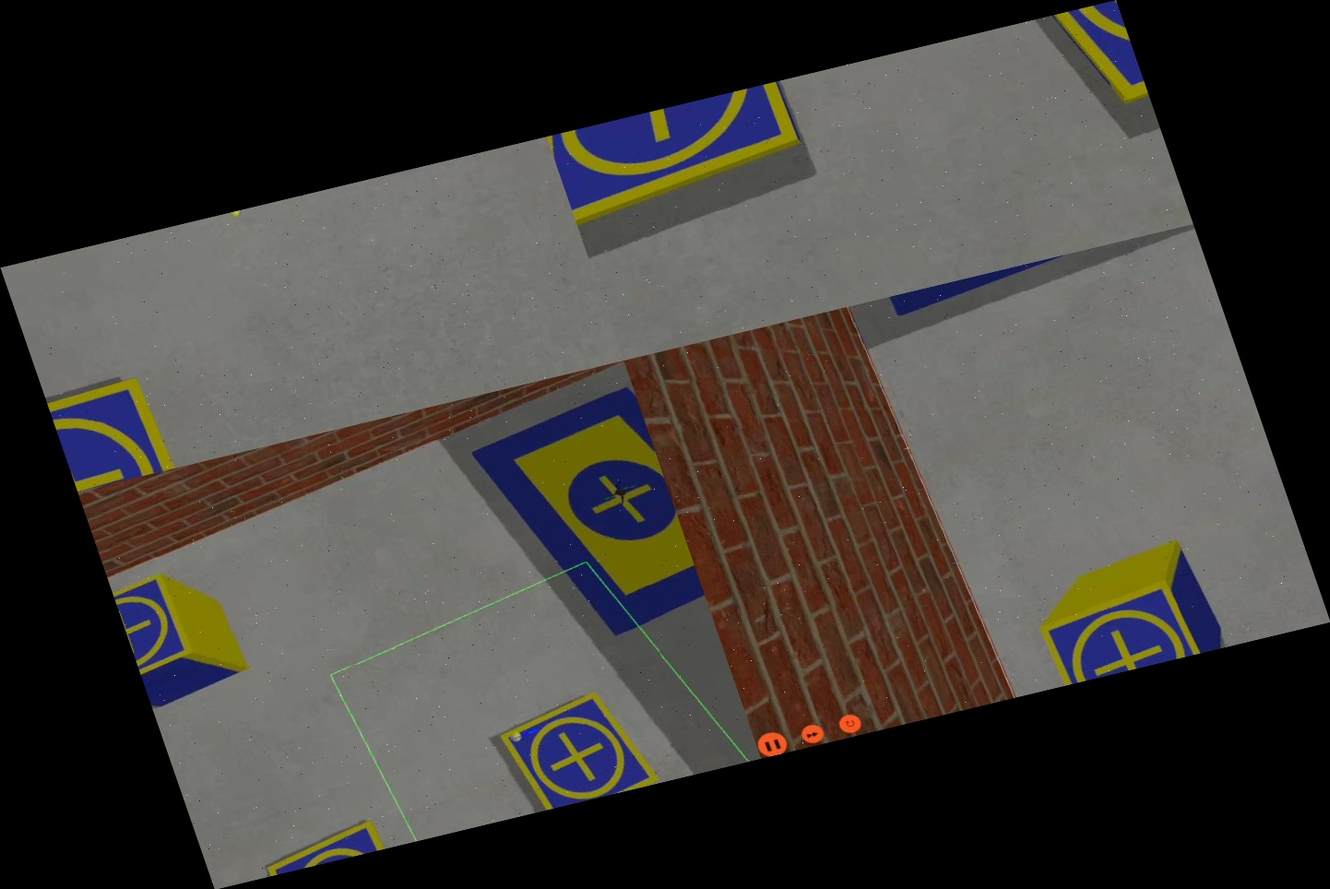large_base: (457, 382, 710, 653)
small_base: (547, 78, 818, 227), (491, 683, 660, 814), (1033, 573, 1206, 686), (46, 374, 179, 492), (110, 571, 206, 689), (258, 816, 389, 876)
